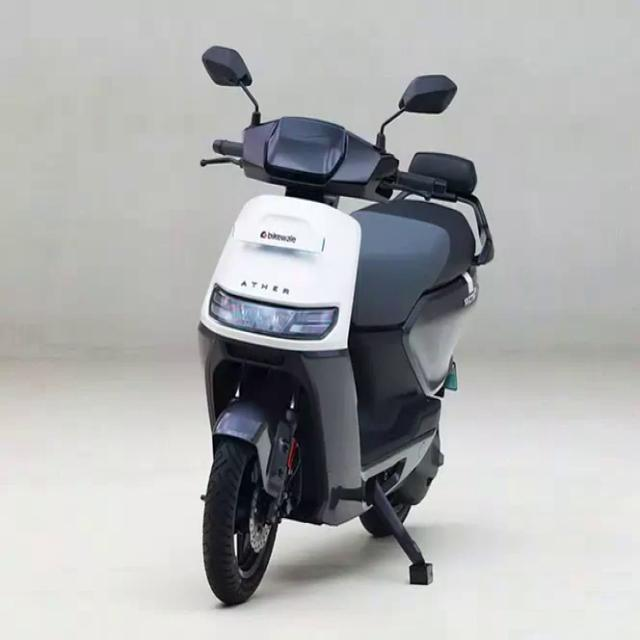objects: (170, 19, 503, 615)
